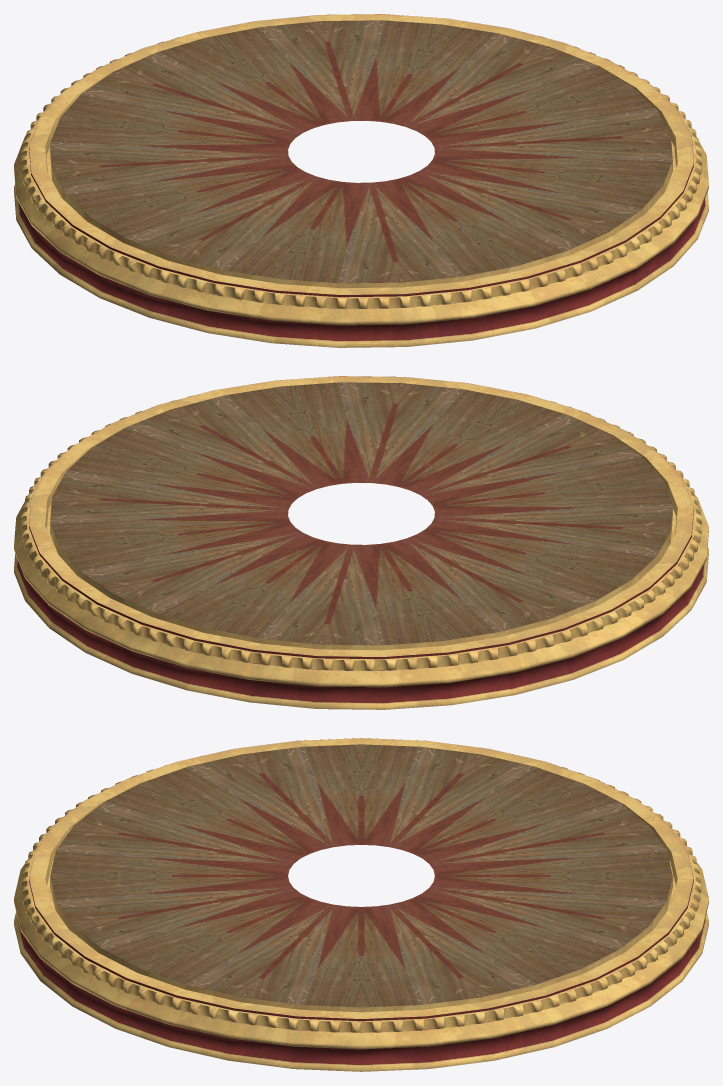
Rendered from carousel.obj.
The picture shows the model from 3 angles, top to bottom: view 1: azimuth 30°, elevation 25°; view 2: azimuth 150°, elevation 25°; view 3: azimuth 270°, elevation 25°; orthographic projection.
Visible parts, largest first — view 1: obj6; view 2: obj6; view 3: obj6.
Part boxes in pixels (bbox=[...]): obj6: bbox=[14, 14, 708, 347]; obj6: bbox=[14, 376, 708, 709]; obj6: bbox=[14, 738, 708, 1071].
Bounding box in the file's own units: 3.67 × 0.2865 × 3.67.
